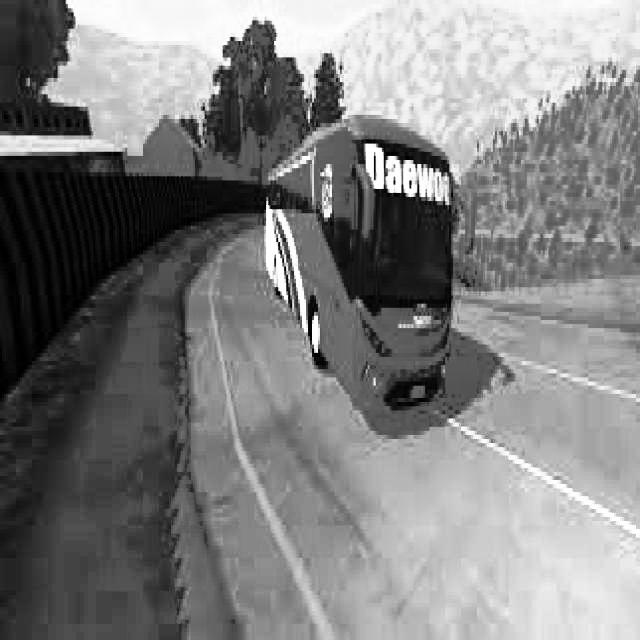Bus: (254, 104, 480, 462)
